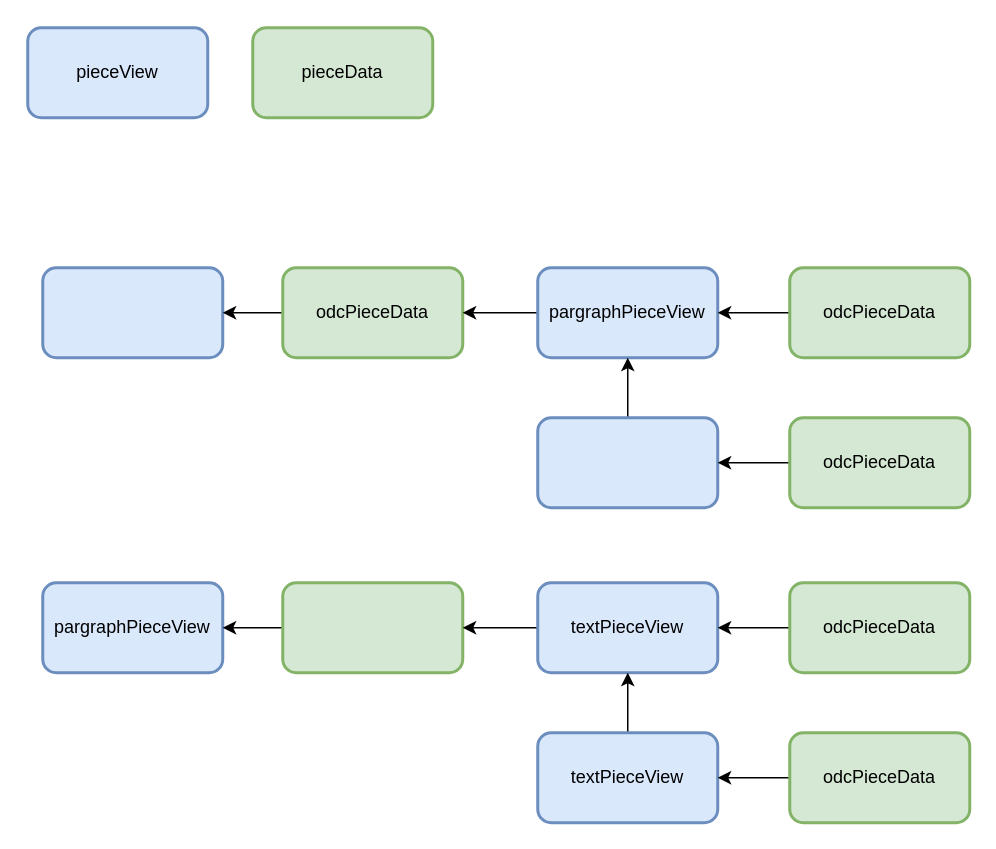
The diagram is 996 pixels wide and 849 high, and some of its shapes have lost their labels. Each missing label, with the centre of its shape:
"docPieceView" belongs at pixel 132 312.
"pargraphPieceData" belongs at pixel 372 627.
"tablePieceView" belongs at pixel 627 462.
